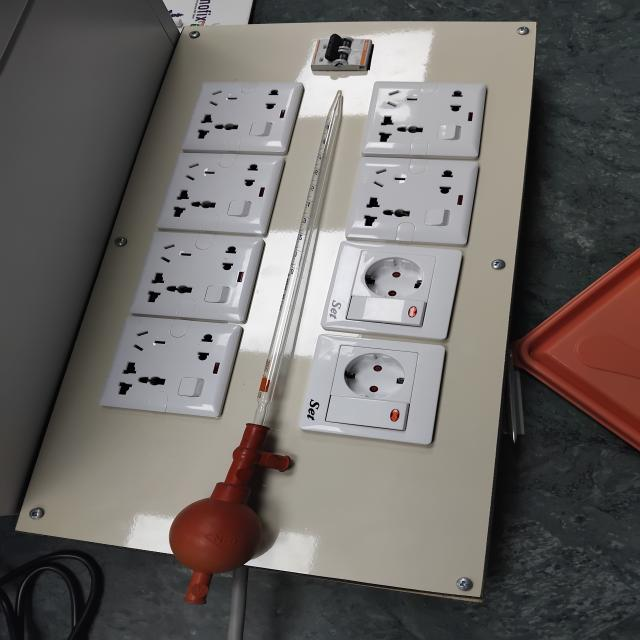Volumetric_Pipet: (148, 71, 384, 614)
